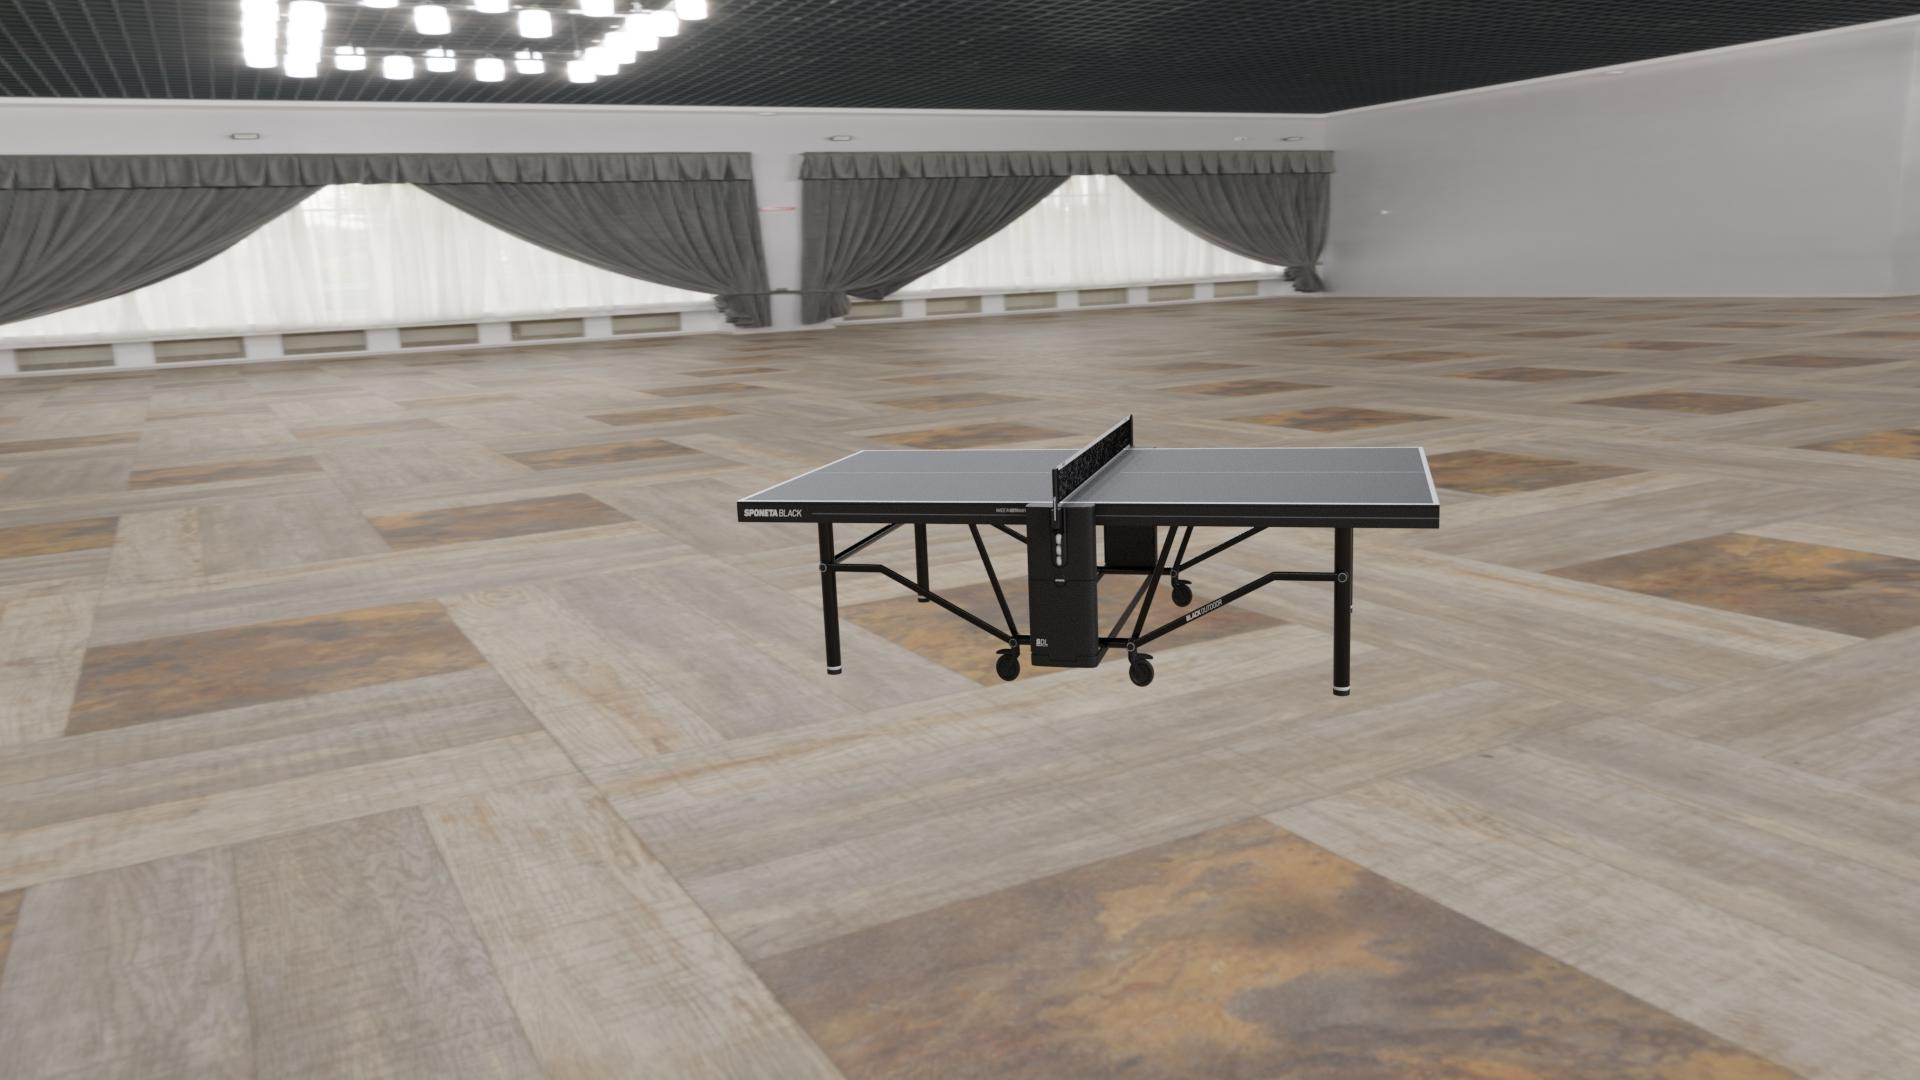table: (742, 447, 1433, 504)
